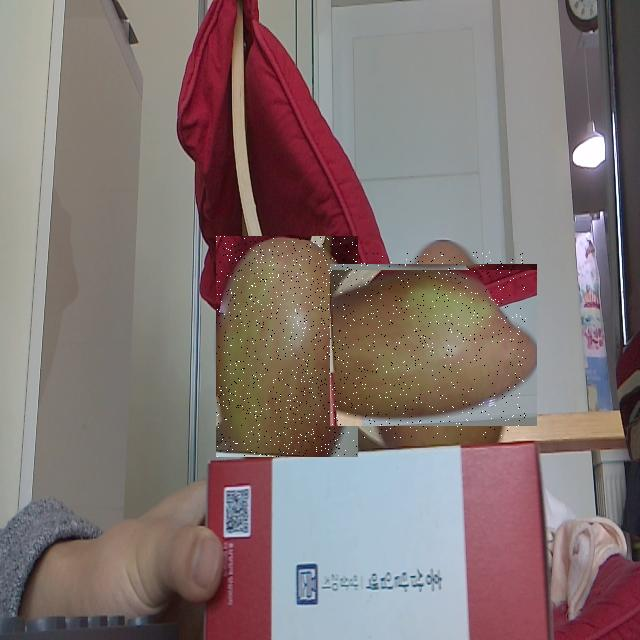apple: (340, 252, 526, 438), (216, 236, 358, 457)
